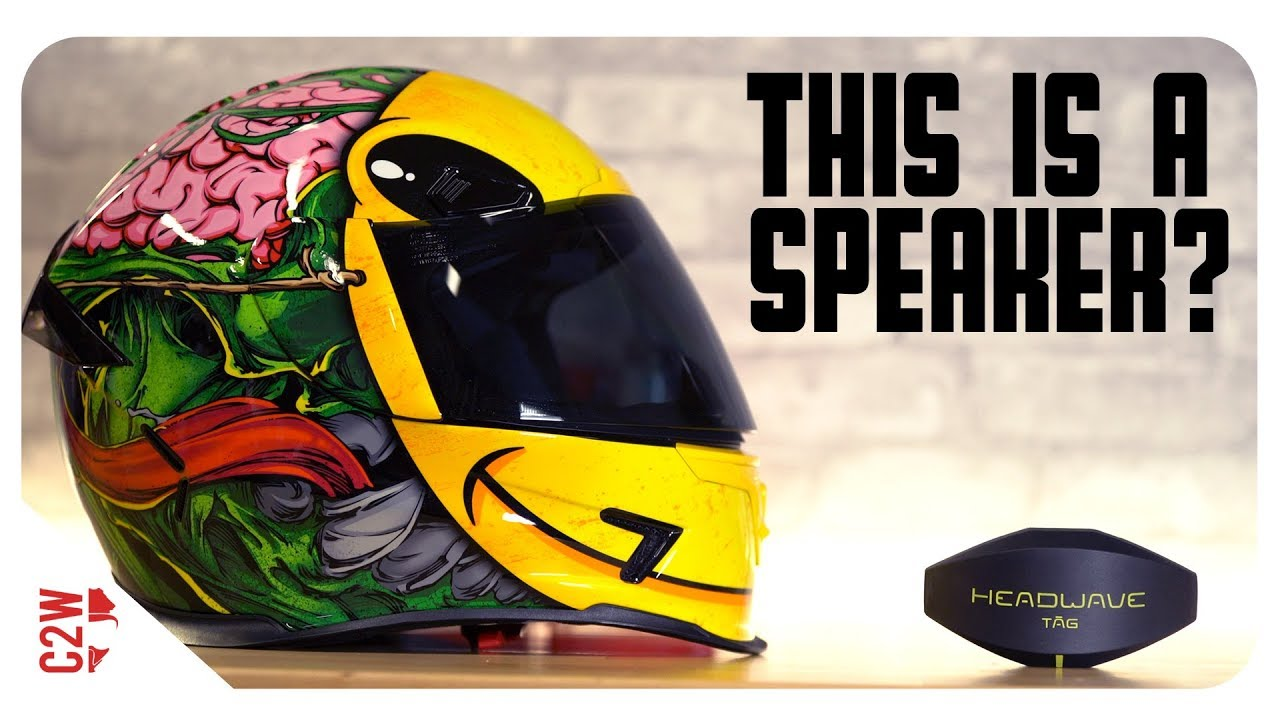with_helmet: (23, 62, 775, 664)
